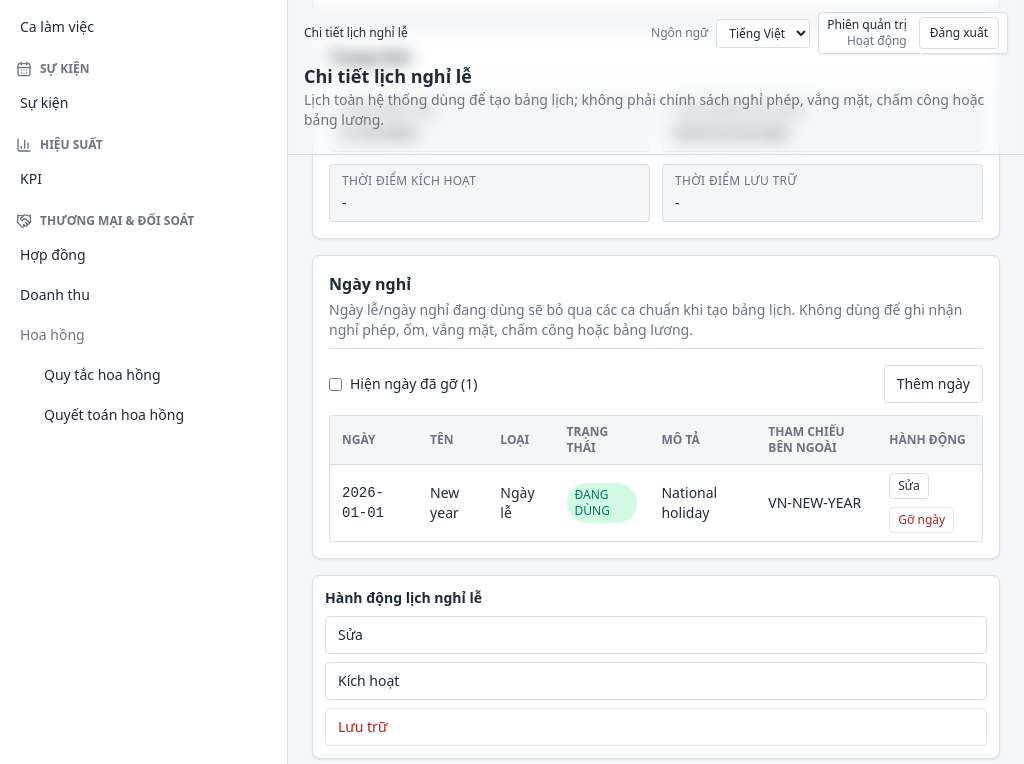
Test: holiday calendar slice B surfaces › renders duplicate active-date conflicts cleanly for holiday entries
The image size is (1024, 764).
(page scrolled)
Expected: the text "New year" is shown, top-left (418, 464), bottom-right (488, 541)
Step 1. Click the button "Thêm ngày" → (933, 384), box top-left (884, 365), bottom-right (983, 403)
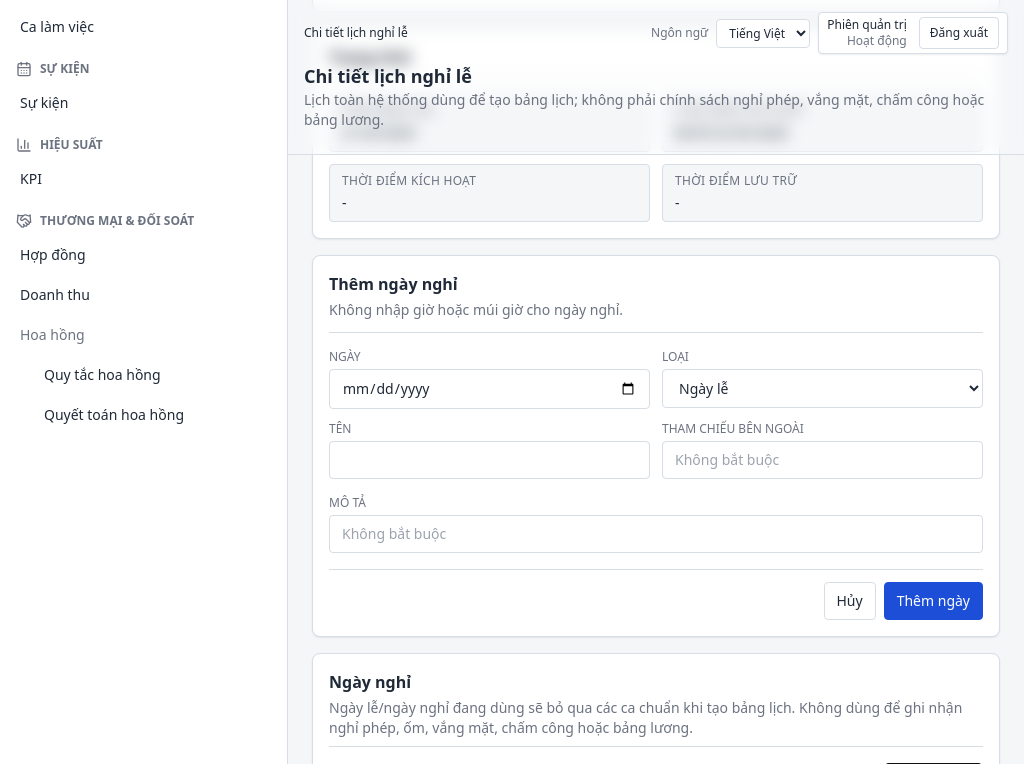
Step 2. Type "2026-01-01" into the date field labelled "Ngày" → (490, 389), box top-left (329, 369), bottom-right (650, 409)
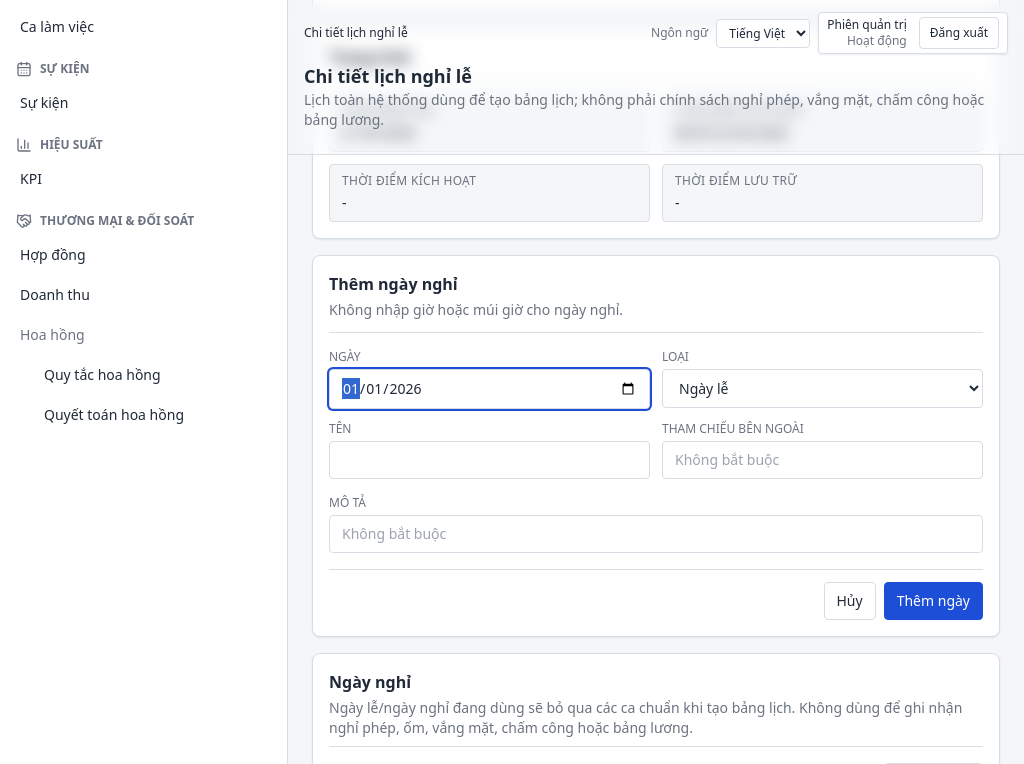
Step 3. Type "Duplicate new year" into the field labelled "Tên" → (490, 460), box top-left (329, 441), bottom-right (650, 479)
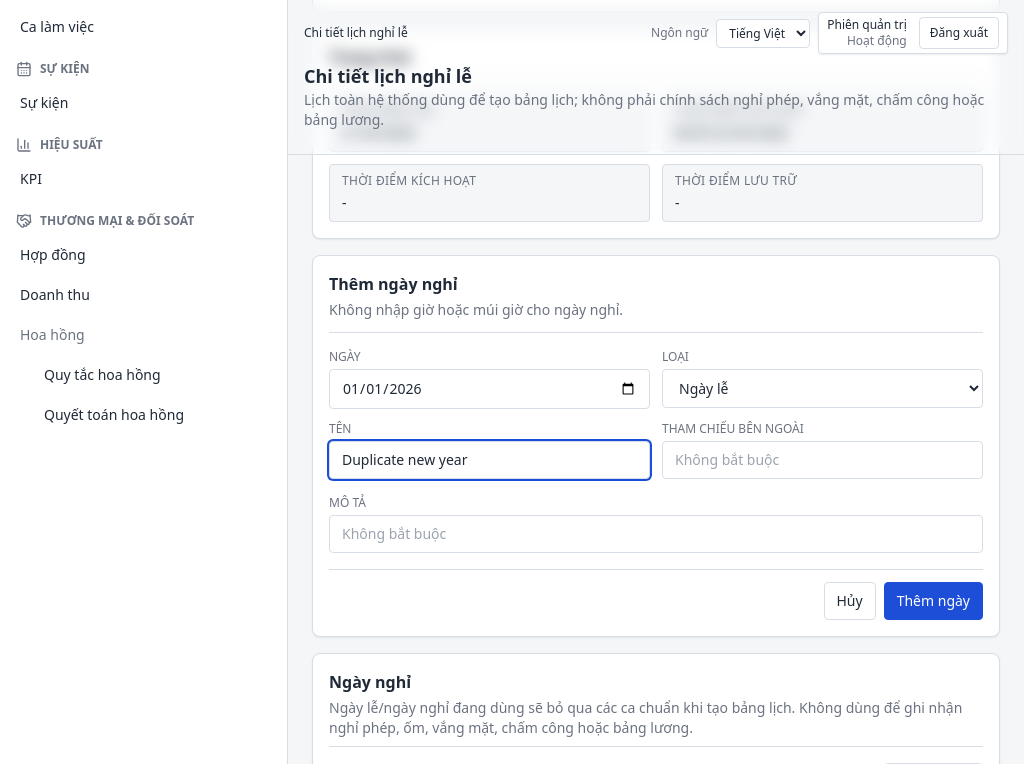
Result: the element "Thêm ngày nghỉ" is shown at top-left (312, 255), bottom-right (1000, 637)
Step 4. Click the 1st button "Thêm ngày" → (933, 601), box top-left (884, 582), bottom-right (983, 620)
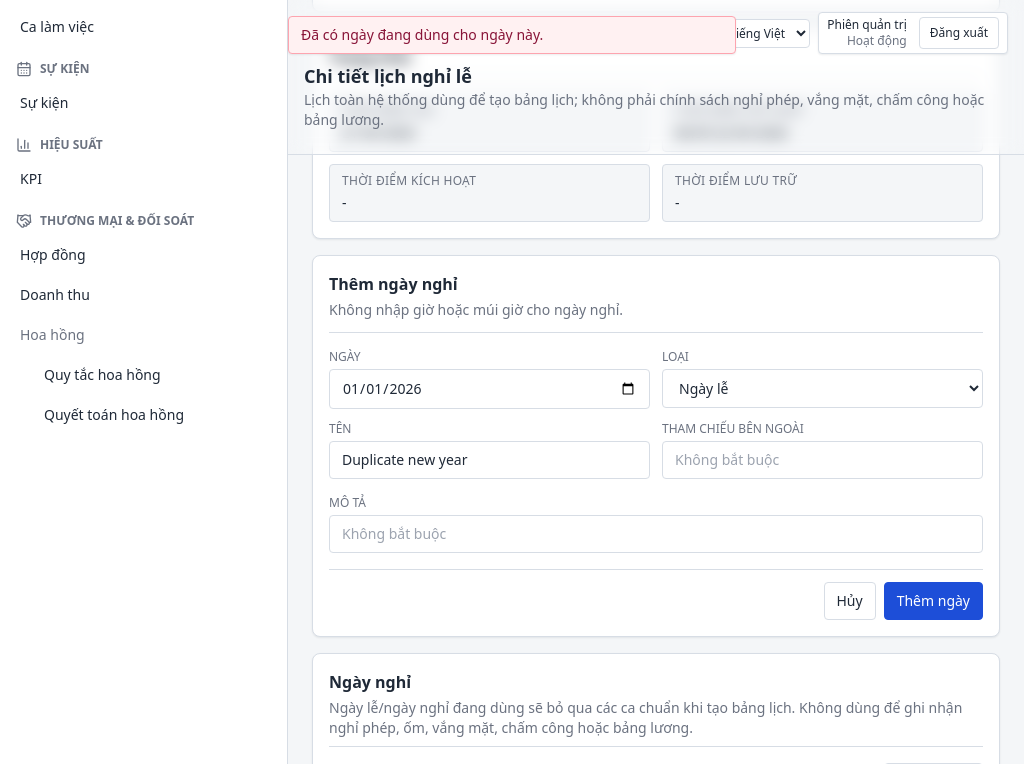
Result: the text "Đã có ngày đang dùng cho ngày này." is shown at top-left (288, 16), bottom-right (736, 54)
